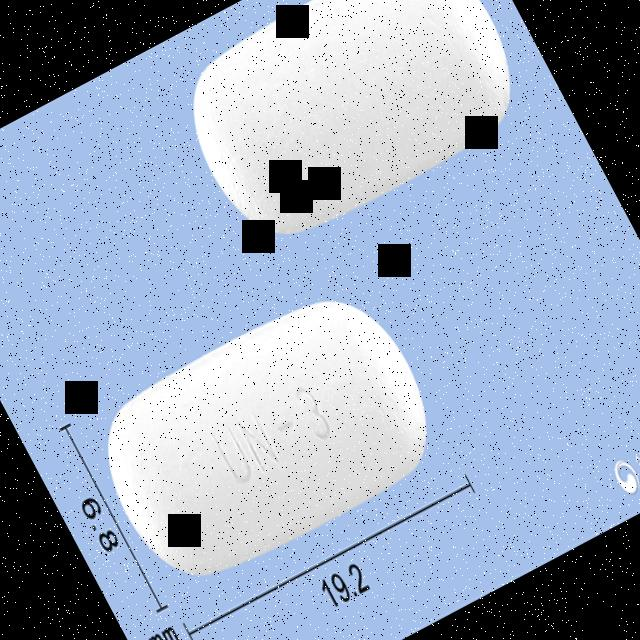Unasyn Tab: (77, 274, 455, 604)
